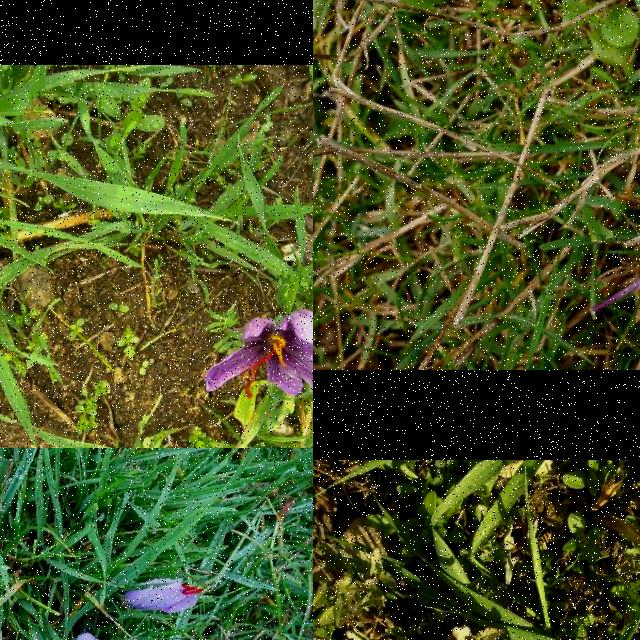flower: (204, 311, 313, 400), (124, 577, 206, 615), (60, 632, 100, 640)
